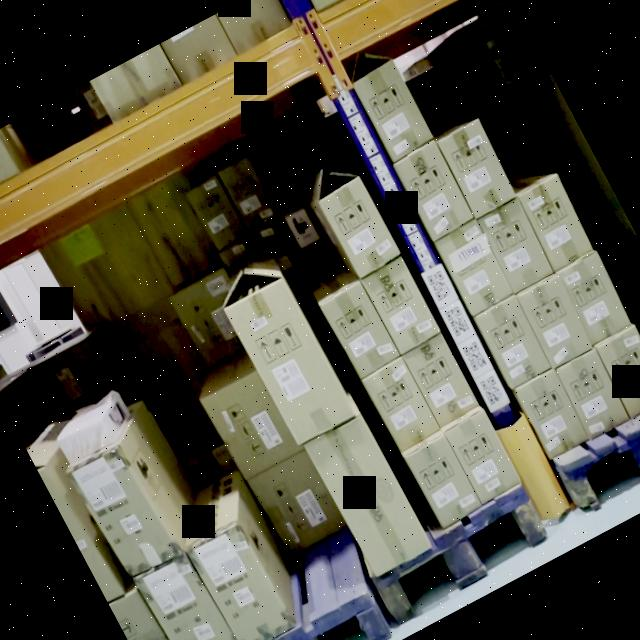box: (225, 278, 354, 444), (306, 414, 431, 577), (70, 444, 177, 579), (192, 529, 290, 640), (202, 371, 299, 478), (251, 452, 344, 554), (142, 556, 237, 640), (394, 142, 474, 239), (435, 120, 515, 216), (434, 220, 514, 314), (362, 256, 441, 351), (354, 63, 432, 158), (320, 182, 400, 274), (554, 253, 632, 344), (445, 411, 522, 503), (477, 200, 553, 292), (554, 348, 630, 438), (322, 284, 398, 374), (364, 359, 439, 450), (517, 276, 591, 365), (476, 298, 550, 386), (404, 336, 478, 424), (406, 436, 480, 524), (520, 176, 592, 265), (515, 371, 587, 455), (189, 178, 247, 248), (217, 156, 274, 226), (597, 329, 640, 413), (60, 418, 115, 464)
